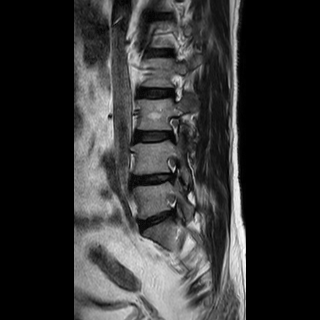RFS0: (160, 108, 185, 148)
RFS2: (157, 152, 186, 191)
